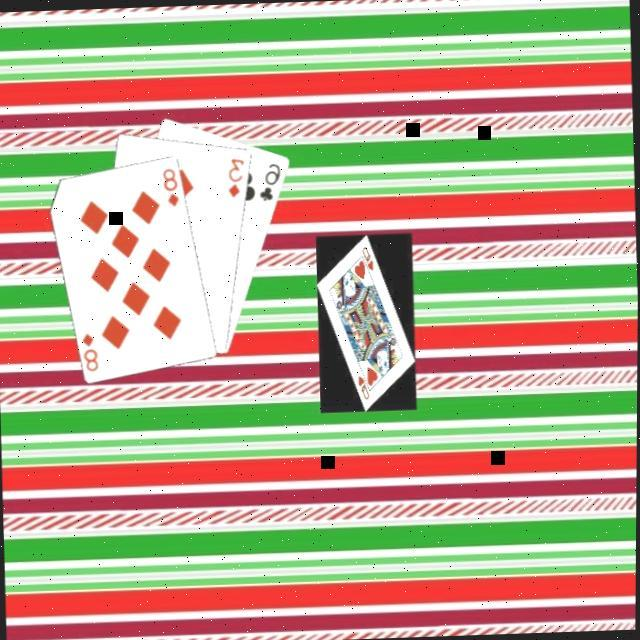3D: (226, 155, 250, 200)
6C: (256, 160, 286, 205)
8D: (160, 165, 184, 210), (80, 330, 104, 374)
